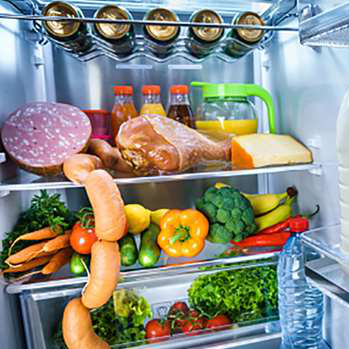milk: (335, 85, 349, 278)
